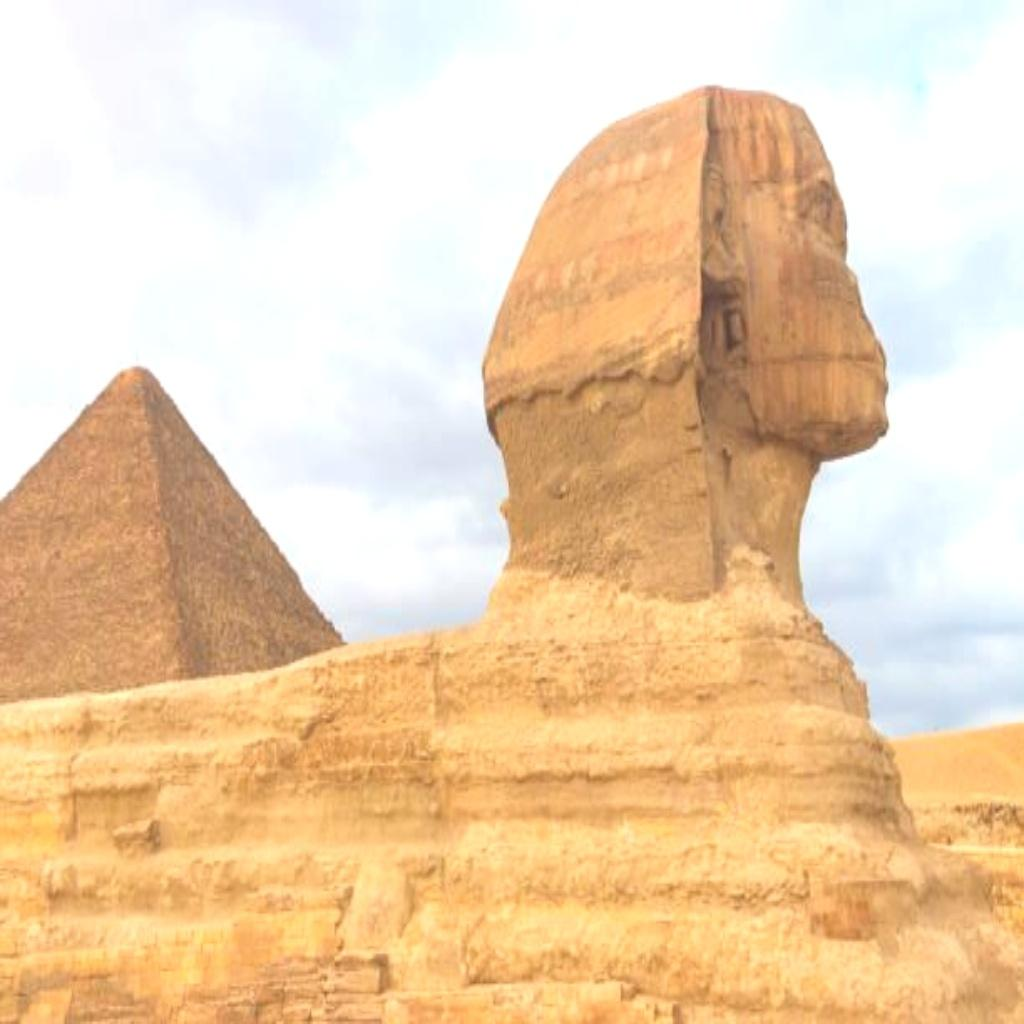Sphinx: (0, 80, 1021, 1022), (478, 80, 890, 620)
